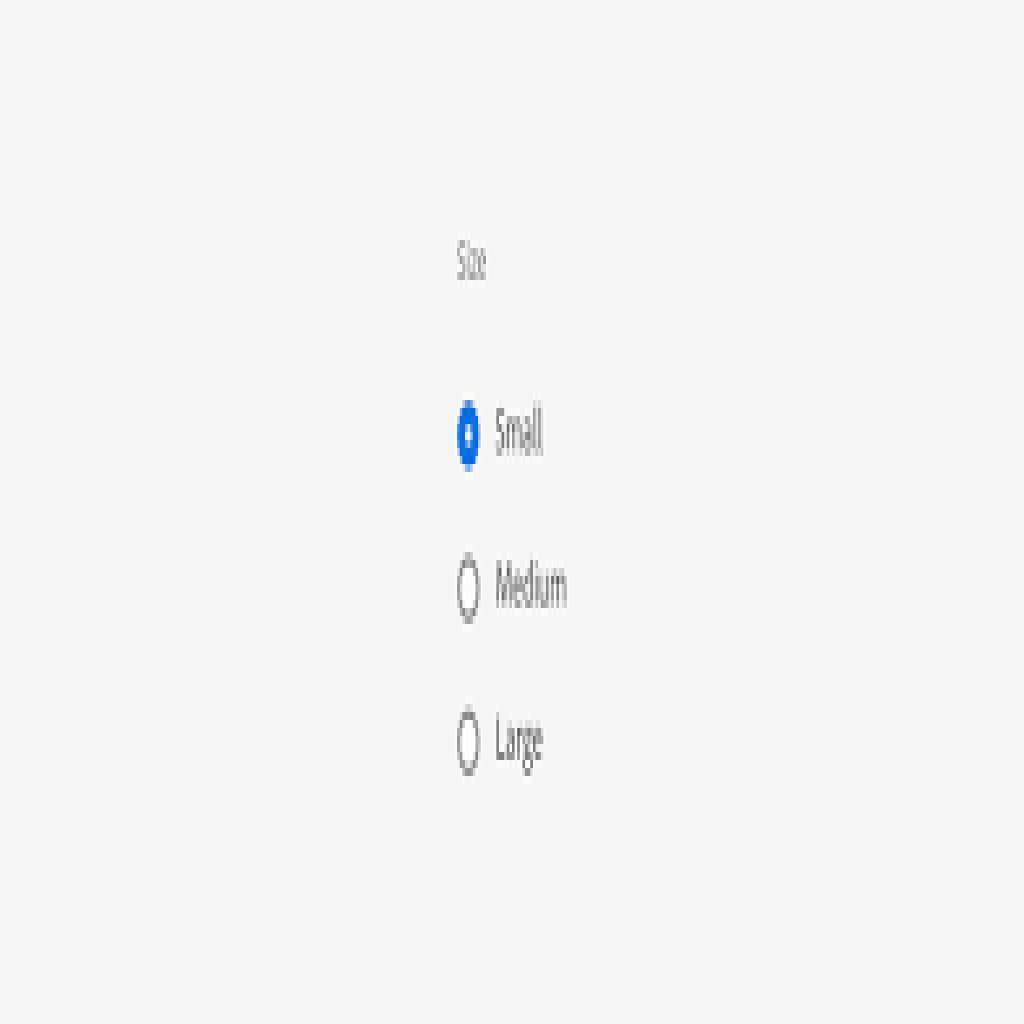checkbox: (456, 549, 486, 622)
radio: (454, 699, 484, 780), (452, 400, 483, 478)
